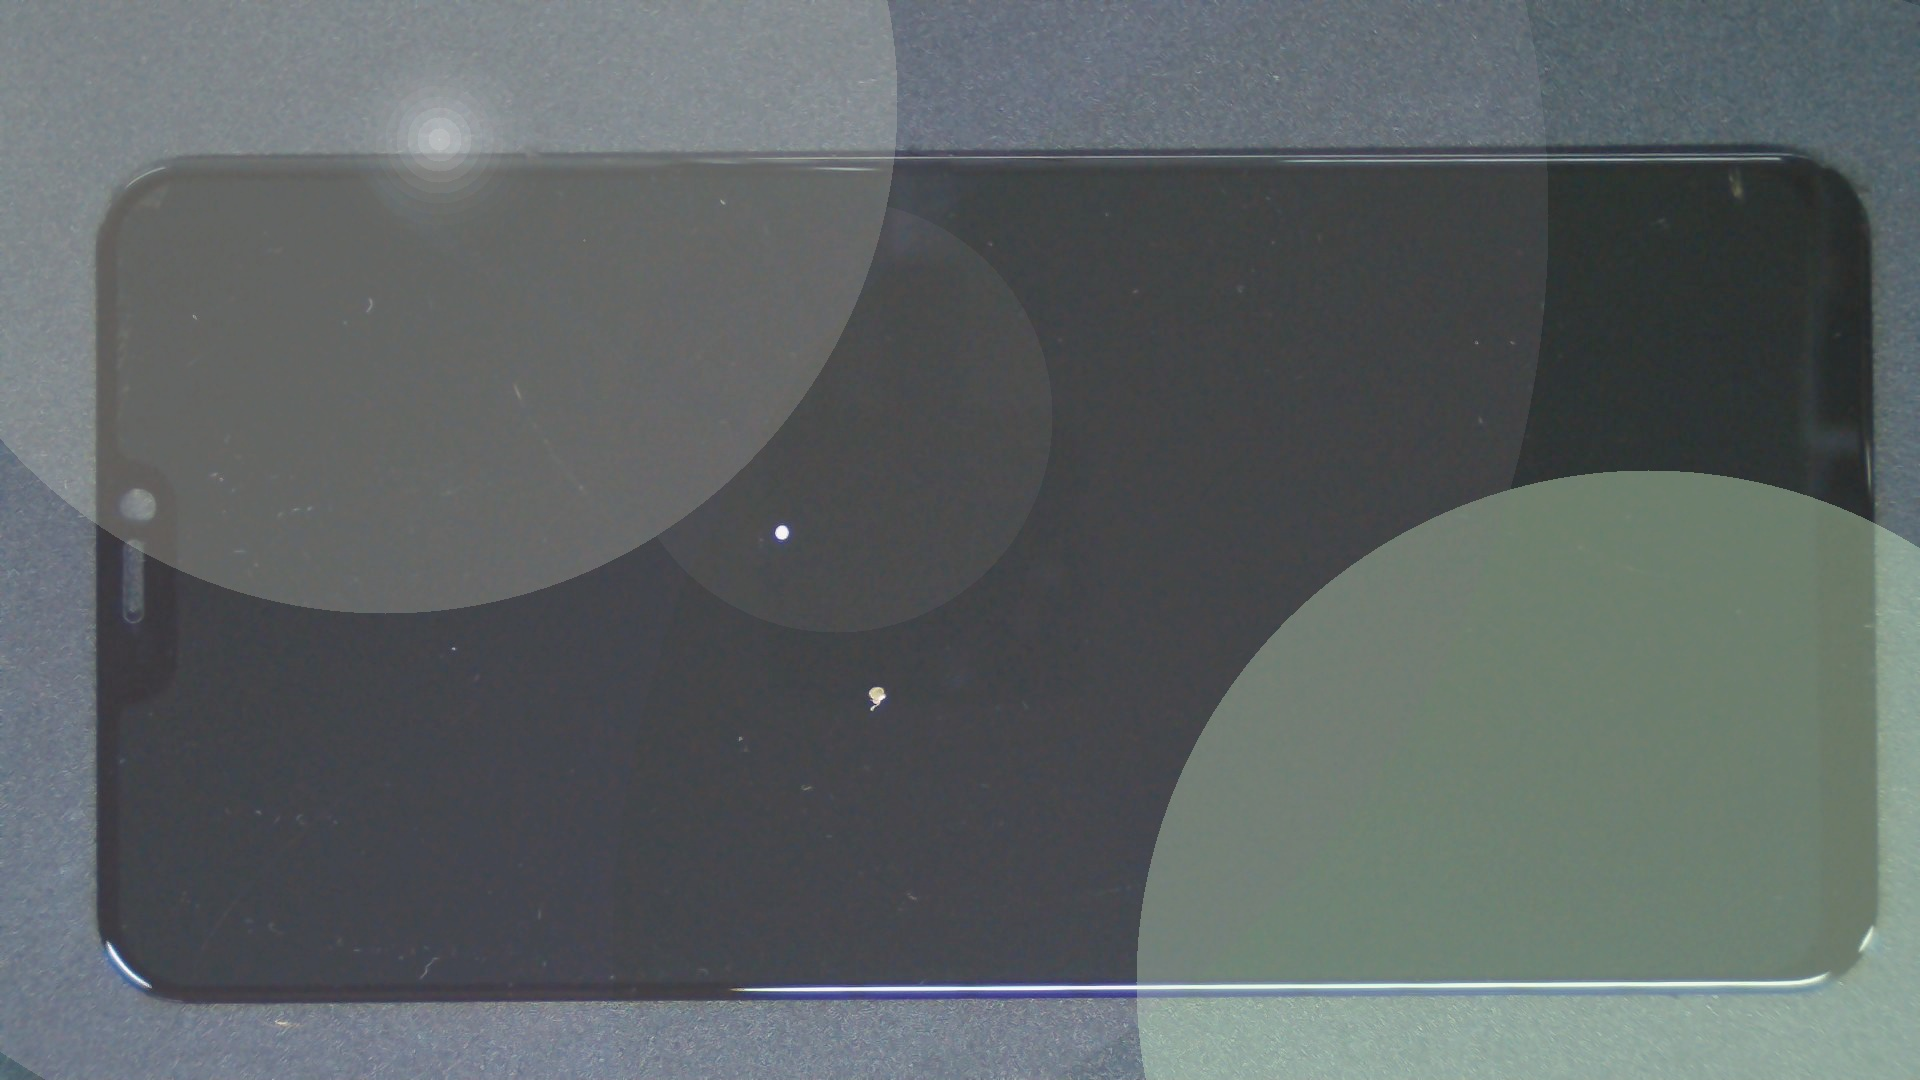oil: (443, 342, 1325, 1029), (390, 261, 1168, 785)
